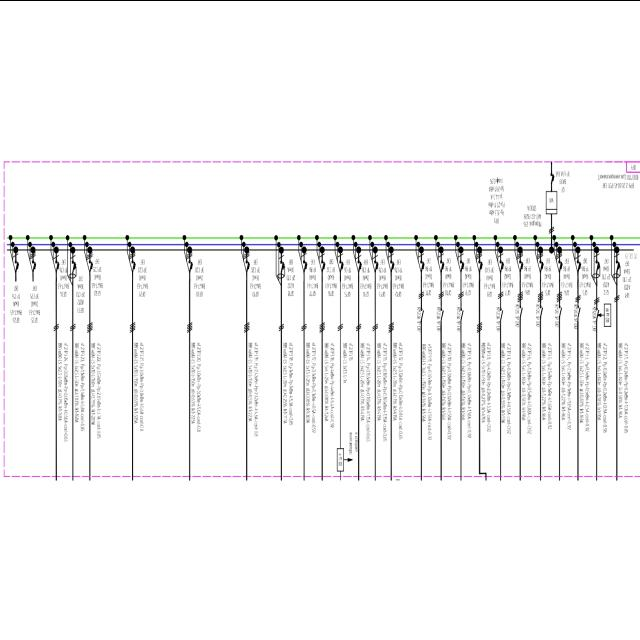-: (522, 202, 542, 228), (522, 255, 534, 288), (423, 255, 435, 288), (193, 258, 206, 288), (392, 257, 404, 289), (484, 257, 496, 289), (29, 282, 41, 314), (561, 256, 573, 288), (502, 256, 514, 287), (325, 257, 337, 288), (92, 257, 104, 288), (76, 274, 88, 304), (250, 258, 262, 288), (579, 257, 591, 287), (442, 257, 454, 287), (10, 284, 22, 314), (342, 258, 354, 288), (376, 258, 388, 288), (137, 258, 149, 288), (58, 258, 70, 288), (542, 257, 554, 287), (462, 257, 474, 287), (360, 258, 372, 288), (307, 258, 319, 288), (286, 256, 296, 288), (623, 259, 633, 289), (602, 257, 612, 287), (555, 168, 571, 184), (602, 182, 634, 188), (496, 304, 502, 332), (435, 304, 441, 332), (591, 304, 597, 332), (514, 300, 520, 328), (455, 304, 461, 332), (572, 303, 578, 330), (416, 304, 422, 331), (554, 301, 560, 328), (534, 302, 540, 328), (338, 455, 342, 466)
KM: (460, 306, 464, 321), (440, 306, 444, 321), (420, 306, 424, 320), (558, 304, 562, 318), (519, 304, 523, 318), (499, 307, 503, 321), (539, 303, 543, 317), (576, 304, 580, 318)
QF: (302, 258, 308, 272), (338, 258, 344, 270), (320, 258, 326, 270), (499, 258, 504, 272), (576, 258, 581, 270), (14, 260, 20, 270), (460, 258, 464, 272), (440, 258, 444, 272), (558, 259, 562, 271), (540, 259, 544, 271), (519, 259, 523, 271), (478, 260, 482, 272), (420, 258, 424, 270), (390, 259, 394, 271), (374, 259, 378, 271), (358, 258, 362, 270), (246, 258, 250, 270), (188, 258, 192, 270), (132, 258, 136, 270), (56, 258, 60, 270), (32, 258, 36, 270), (550, 172, 554, 184), (89, 259, 92, 271)
QFD: (276, 259, 286, 278), (592, 258, 601, 278), (68, 258, 77, 278), (612, 260, 621, 278)
WH: (546, 189, 558, 214)
